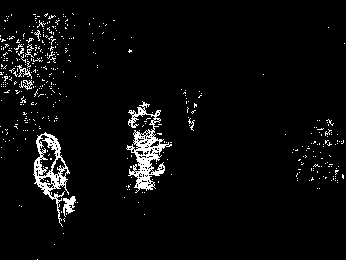person: (30, 134, 80, 224), (179, 83, 207, 134)
